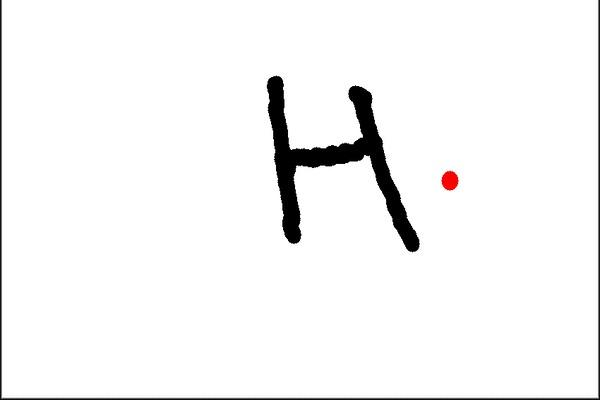H: (252, 65, 423, 254)
